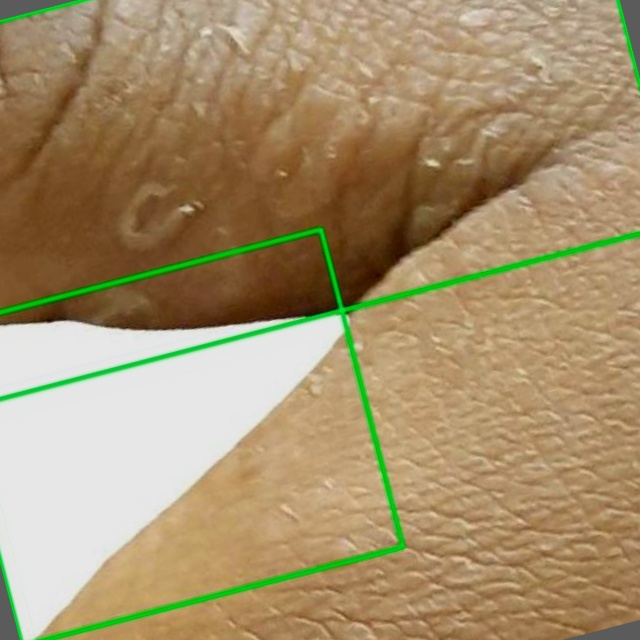Scabies: (0, 0, 639, 398), (0, 228, 404, 639)
